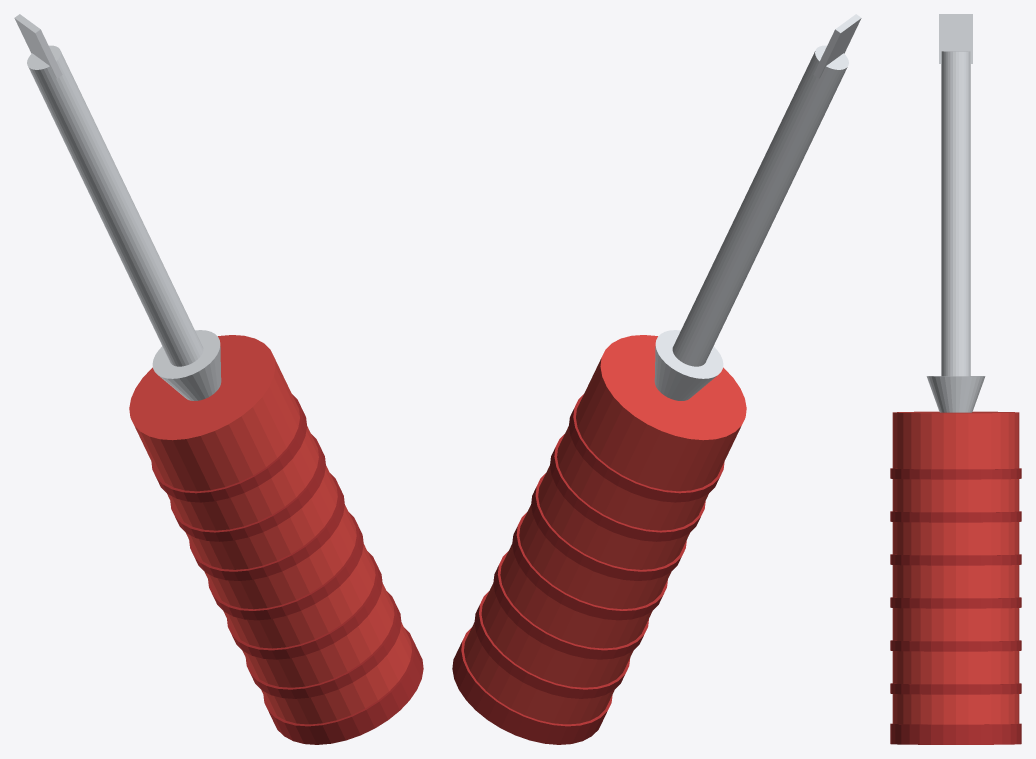
Rendered from destornillador_pala.glb.
The picture shows the model from 3 angles, left to right: view 1: azimuth 30°, elevation 25°; view 2: azimuth 150°, elevation 25°; view 3: azimuth 270°, elevation 25°; orthographic projection. The views are drawn at different scales.
Parts seen in each view (by area): view 1: Mango, Vastago, Tapa_mango, Hombro, Estria_04, Estria_00, Estria_03, Estria_02, Estria_01, Estria_05, Punta_plana; view 2: Mango, Vastago, Tapa_mango, Hombro, Estria_04, Estria_00, Estria_03, Estria_02, Estria_01, Estria_05, Punta_plana; view 3: Mango, Vastago, Tapa_mango, Hombro, Estria_01, Estria_00, Estria_02, Estria_03, Estria_05, Estria_04, Punta_plana.
Part boxes in pixels (bbox=[...]): Mango: bbox=[129, 335, 411, 724]; Vastago: bbox=[27, 45, 203, 366]; Tapa_mango: bbox=[263, 627, 423, 744]; Hombro: bbox=[152, 330, 221, 400]; Estria_04: bbox=[170, 434, 325, 541]; Estria_00: bbox=[245, 591, 401, 698]; Estria_03: bbox=[189, 473, 344, 580]; Estria_02: bbox=[208, 512, 363, 620]; Estria_01: bbox=[227, 551, 382, 659]; Estria_05: bbox=[151, 394, 306, 502]; Punta_plana: bbox=[14, 14, 62, 78]; Mango: bbox=[464, 335, 746, 724]; Vastago: bbox=[672, 45, 848, 366]; Tapa_mango: bbox=[452, 627, 612, 744]; Hombro: bbox=[654, 330, 723, 400]; Estria_04: bbox=[550, 434, 705, 541]; Estria_00: bbox=[474, 591, 630, 698]; Estria_03: bbox=[531, 473, 686, 580]; Estria_02: bbox=[512, 512, 667, 620]; Estria_01: bbox=[493, 551, 648, 659]; Estria_05: bbox=[569, 394, 724, 502]; Punta_plana: bbox=[813, 14, 861, 78]; Mango: bbox=[892, 411, 1019, 724]; Vastago: bbox=[941, 51, 970, 376]; Tapa_mango: bbox=[890, 723, 1021, 744]; Hombro: bbox=[926, 376, 985, 412]; Estria_01: bbox=[890, 640, 1021, 651]; Estria_00: bbox=[890, 683, 1021, 694]; Estria_02: bbox=[890, 597, 1021, 608]; Estria_03: bbox=[890, 554, 1021, 565]; Estria_05: bbox=[890, 468, 1021, 479]; Estria_04: bbox=[890, 511, 1021, 522]; Punta_plana: bbox=[939, 14, 972, 63].
Size of the model in its own units: 1.6 by 3.07 by 0.58.
